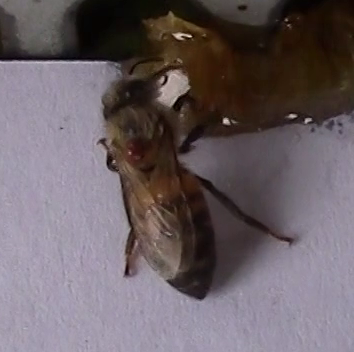Varroa destructor: (124, 139, 145, 165)
